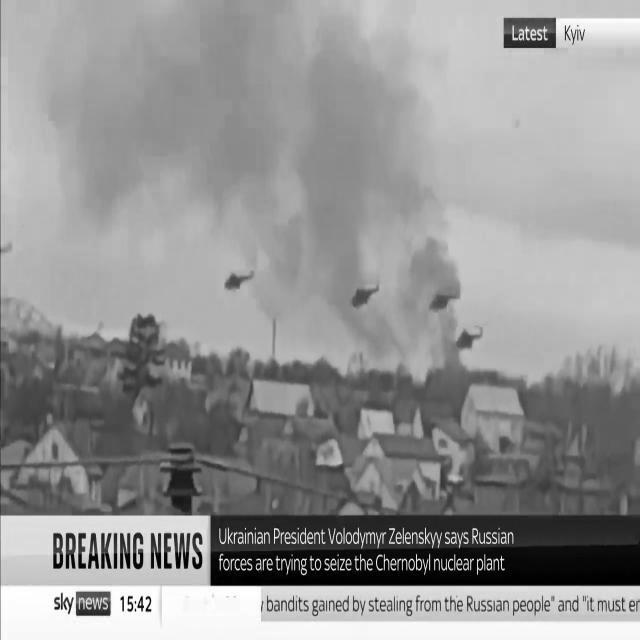helikopter: (339, 270, 394, 326), (213, 255, 265, 310), (423, 269, 462, 320)
